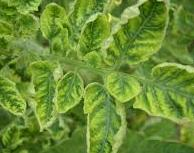Tomato leaf yellow virus: (103, 0, 178, 74), (149, 61, 194, 141), (76, 83, 127, 153), (30, 63, 67, 138), (79, 11, 114, 56), (39, 3, 71, 52), (55, 70, 84, 112), (0, 70, 24, 116), (0, 0, 37, 22), (3, 122, 22, 152)
